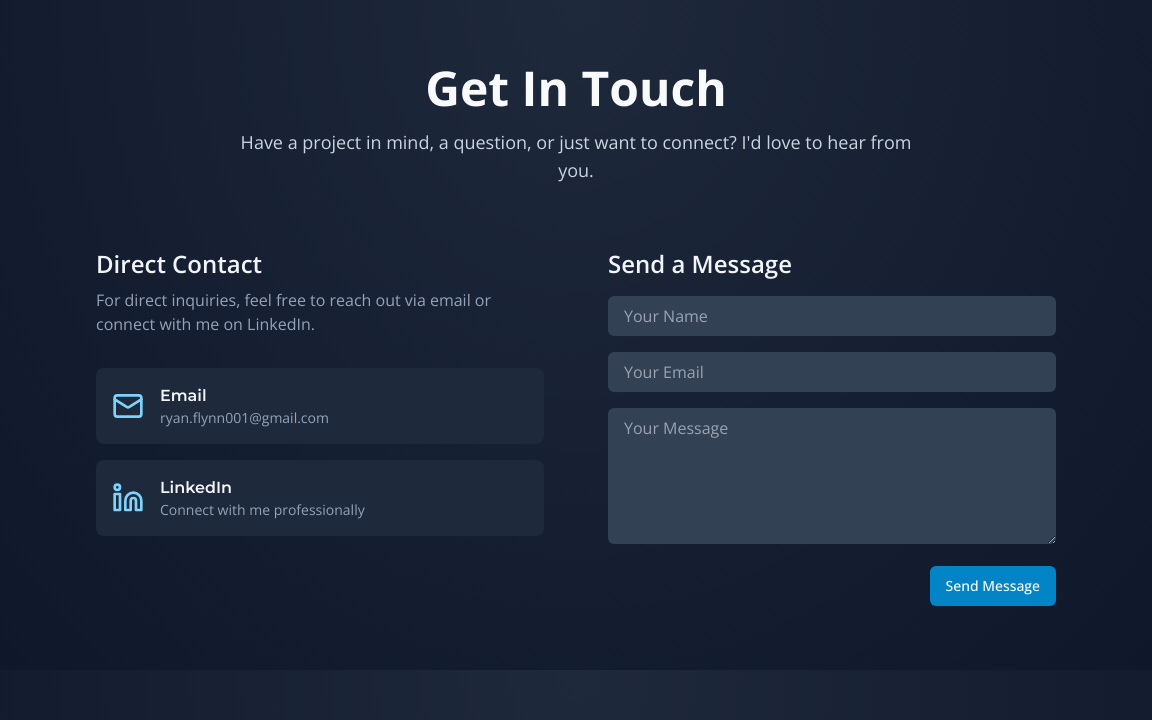
Test: ContactPageClient › displays server-side error message when validation fails
The width and height of the screenshot is (1152, 720).
Type "John Doe" into the field with placeholder "Your Name" at (832, 316), box top-left (608, 296), bottom-right (1056, 336)
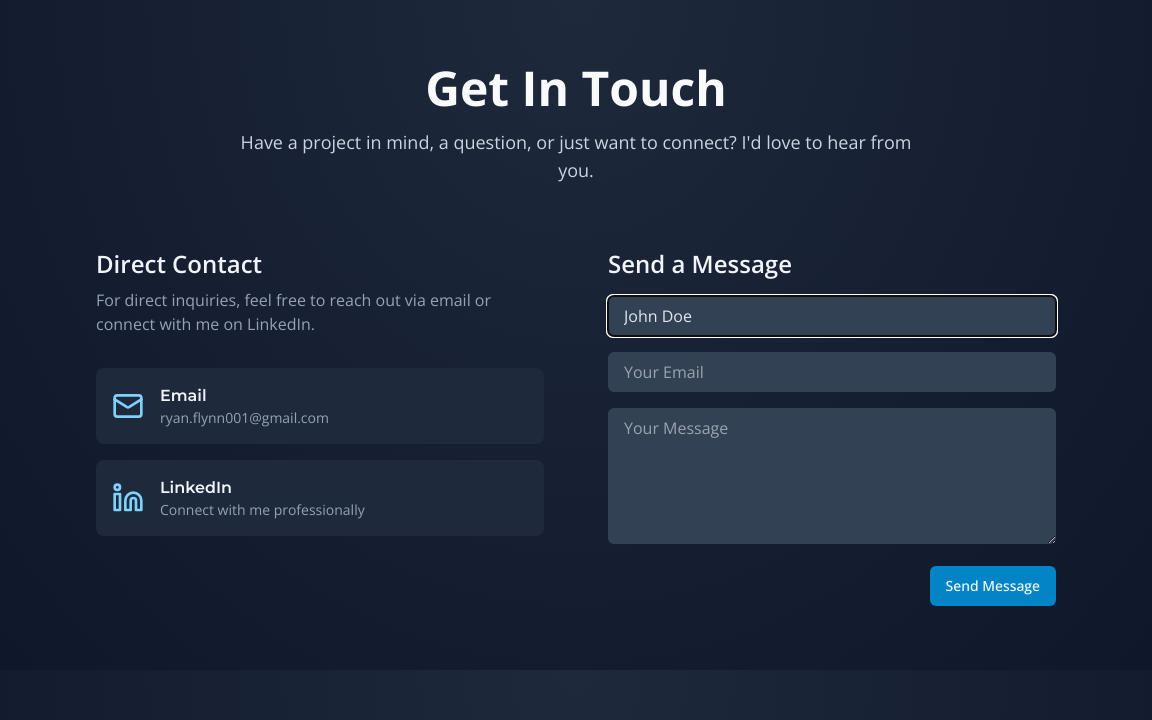
Type "john@example.com" into the field with placeholder "Your Email" at (832, 372), box top-left (608, 352), bottom-right (1056, 392)
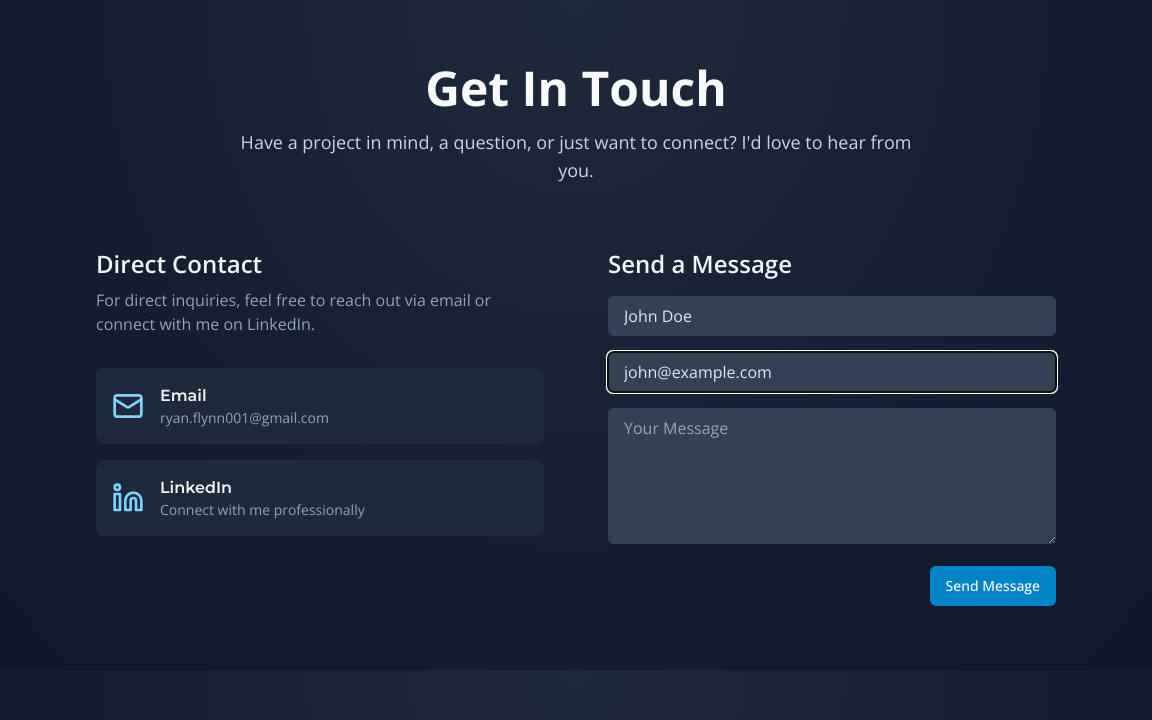
Type "Test message" into the text box with placeholder "Your Message" at (832, 476), box top-left (608, 408), bottom-right (1056, 544)
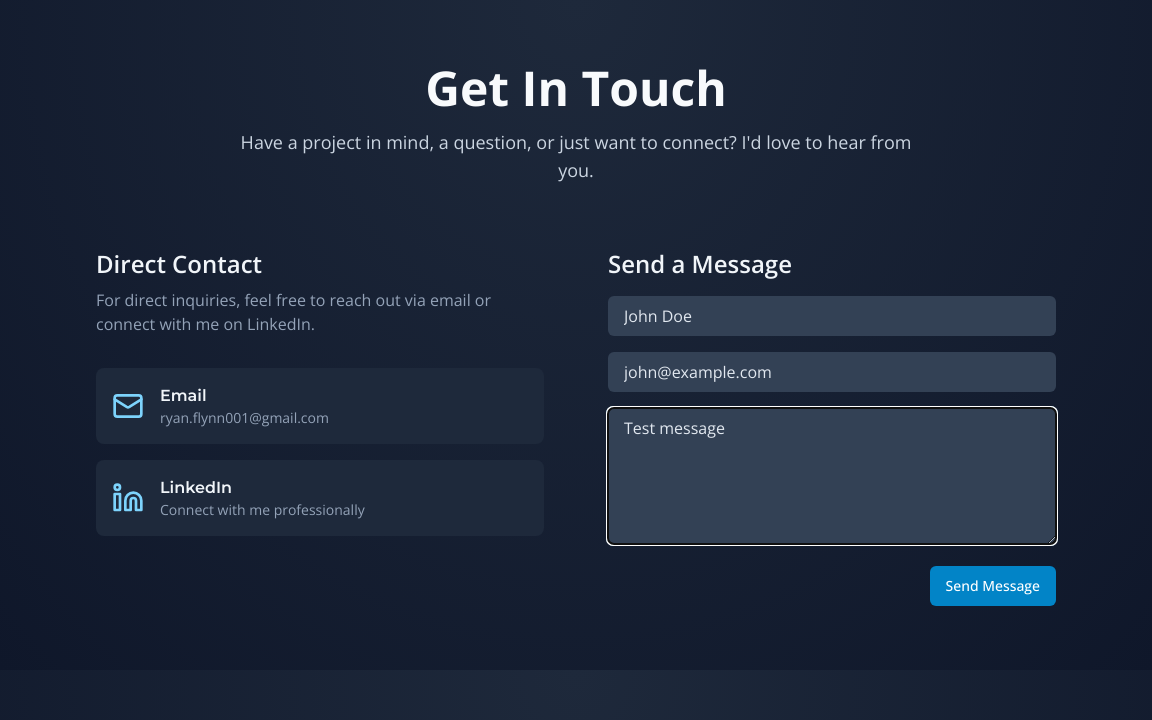
Click the button "Send Message" at (993, 586), box top-left (930, 566), bottom-right (1056, 606)
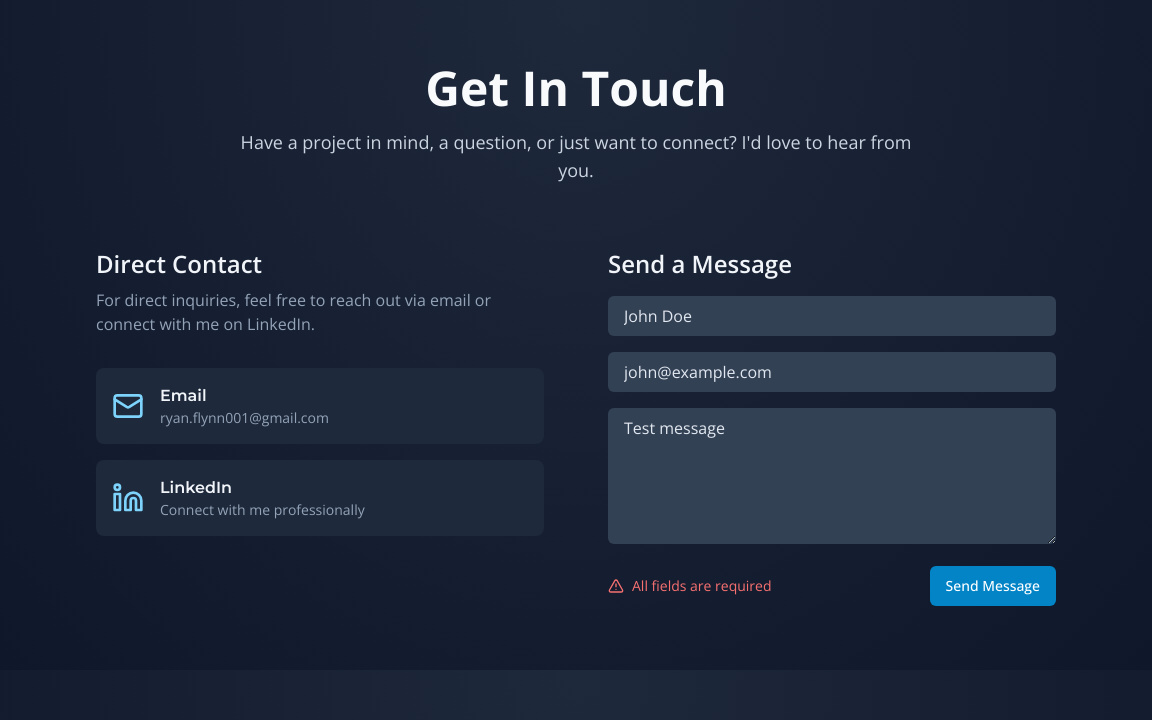
Result: the text "All fields are required" is shown at top-left (608, 576), bottom-right (772, 596)
